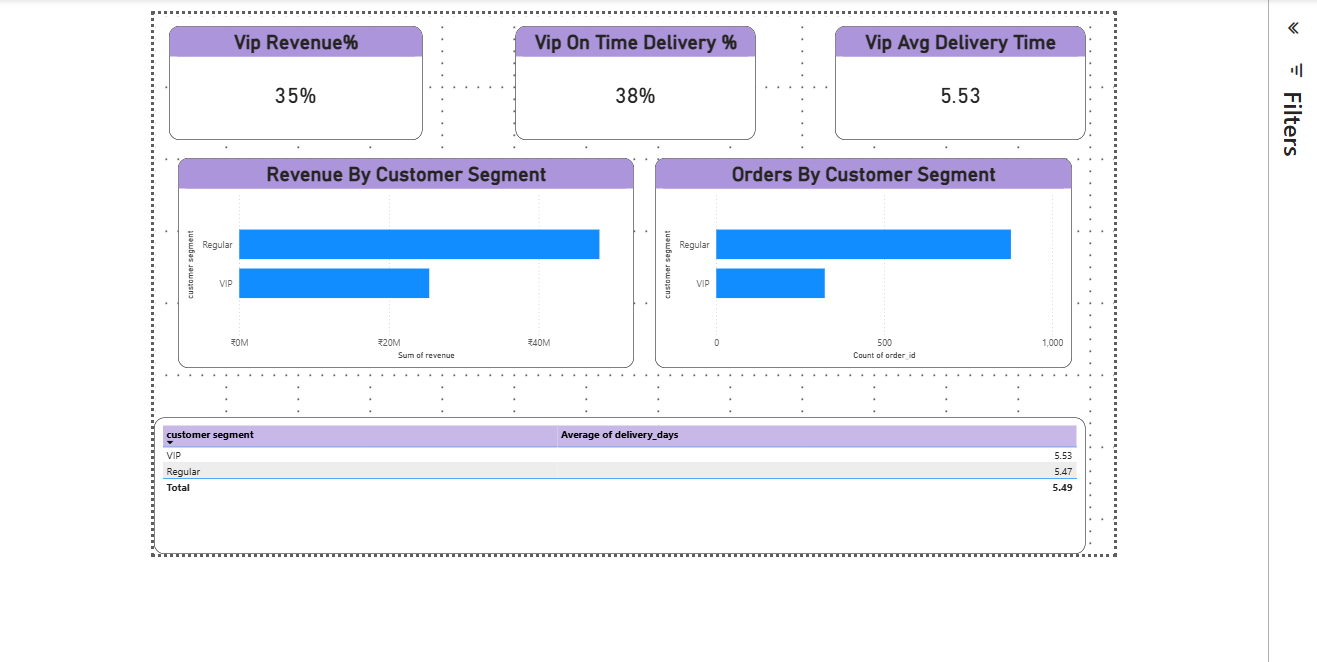

The page's visual inventory and layout, read from the dashboard file:
{"tool":"powerbi","page":{"name":" Customer Segmentation","canvas":[1280,720],"ordinal":3},"visuals":[{"type":"barChart","title":" Revenue By Customer Segment","fields":{"Category":["orders.customer segment"],"Y":["Sum(orders.revenue)"]},"box":[32,192,608,280],"z":0},{"type":"barChart","title":"Orders By Customer Segment","fields":{"Category":["orders.customer segment"],"Y":["CountNonNull(orders.order_id)"]},"box":[668,192,556,280],"z":1000},{"type":"tableEx","fields":{"Values":["orders.customer segment","Avg(orders.delivery_days)"]},"box":[0,538,1242,182],"z":2000},{"type":"card","title":"Vip Revenue%","fields":{"Values":["orders.VIP Revenue %"]},"box":[20,16,338,152],"z":3000},{"type":"card","title":"Vip Avg Delivery Time","fields":{"Values":["orders.VIP Avg Delivery Days"]},"box":[908,16,334,152],"z":4000},{"type":"card","title":"Vip On Time Delivery %","fields":{"Values":["orders.VIP On-Time Delivery %"]},"box":[482,16,320,152],"z":5000}]}

Visuals, with their boxes on the page's 1280x720 design canvas (x1, y1, x2, y2). These are canvas units, not pixel positions in the 1317x662 screenshot, which may show the page scaled, cropped or inside an application window:
" Revenue By Customer Segment" barChart: rect(32, 192, 640, 472)
"Orders By Customer Segment" barChart: rect(668, 192, 1224, 472)
tableEx - orders.customer segment x Avg(orders.delivery_days): rect(0, 538, 1242, 720)
"Vip Revenue%" card: rect(20, 16, 358, 168)
"Vip Avg Delivery Time" card: rect(908, 16, 1242, 168)
"Vip On Time Delivery %" card: rect(482, 16, 802, 168)
